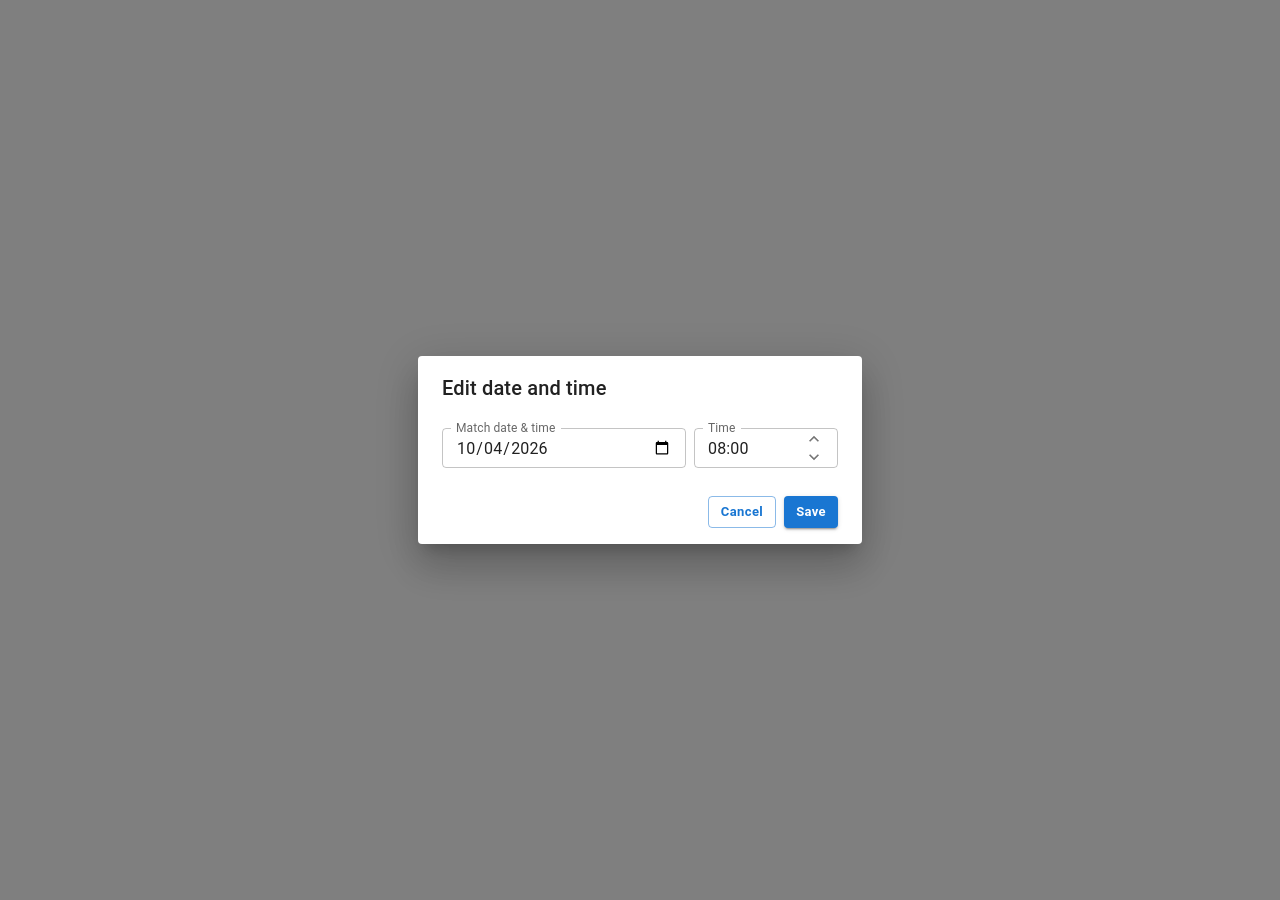
it: MatchDateTimeDialog › warns before saving when the chosen day is outside the league season dates, and disables Save
Expected: the button "Save" is enabled, [784,496,838,528]
Step 1. Type "2027-09-01" into the date field named "Match date & time (date)" → (564, 448), box [442,428,686,468]
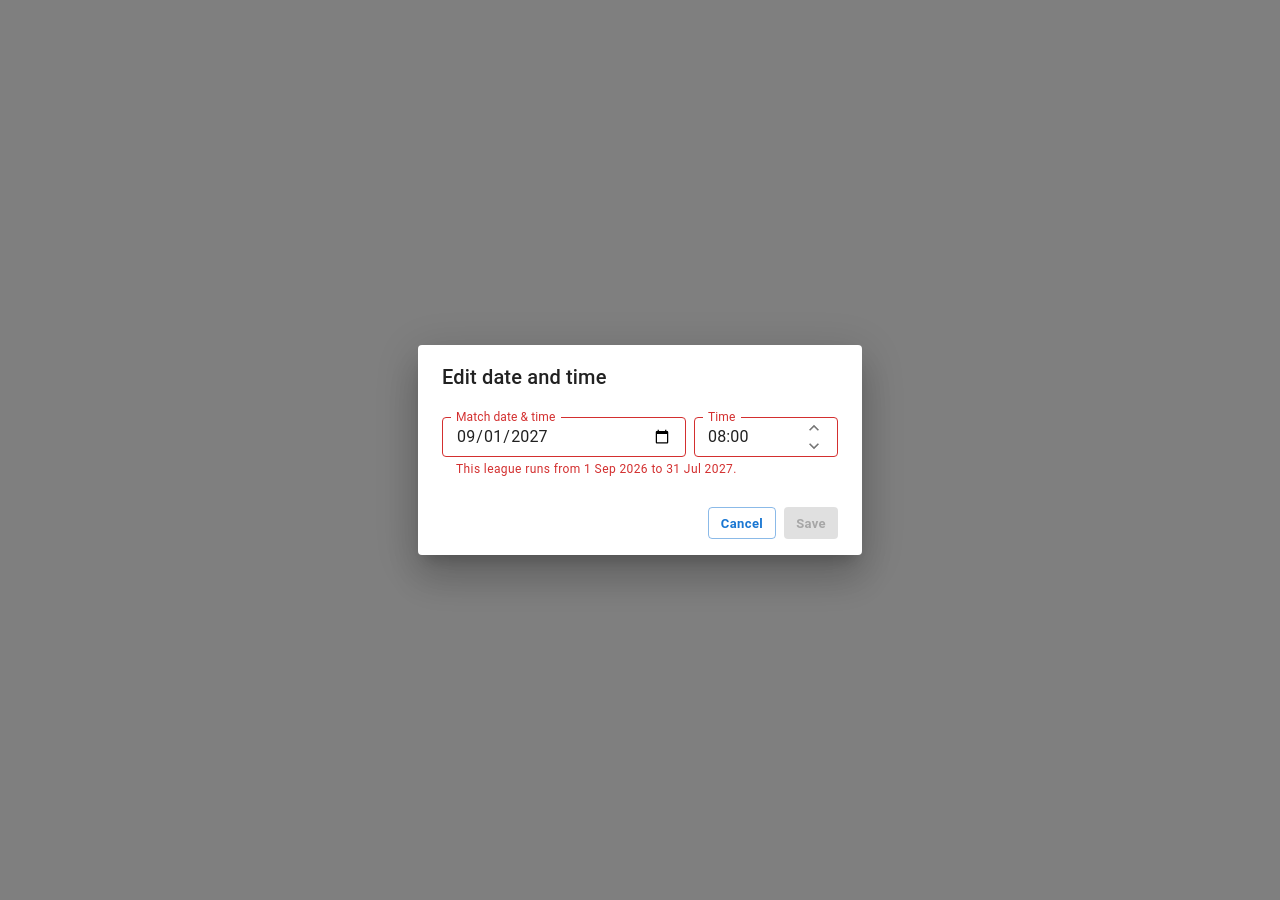
Expected: the text "This league runs from 1 Sep 2026 to 31 Jul 2027." is shown, [456,462,737,476]
Expected: the button "Save" is disabled, [784,508,838,540]
